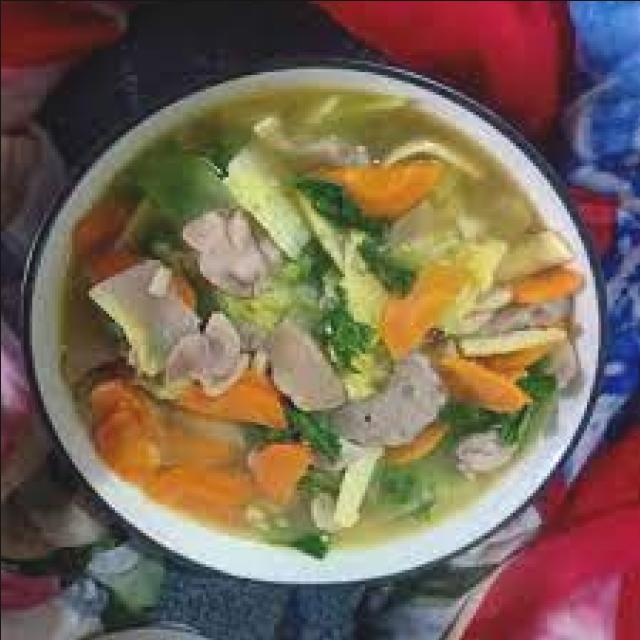sop: (57, 63, 600, 560)
